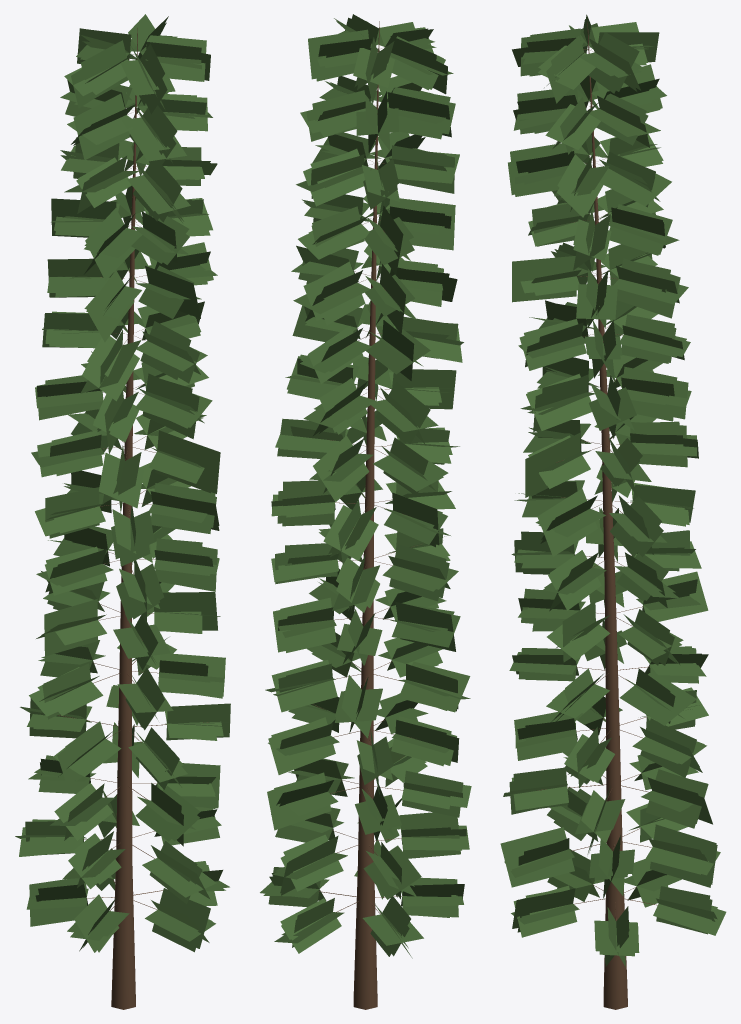
The model's file is seedthree-fir-2.gltf.
The picture shows the model from 3 angles, left to right: view 1: azimuth 30°, elevation 25°; view 2: azimuth 150°, elevation 25°; view 3: azimuth 270°, elevation 25°; orthographic projection.
Visible parts, largest first — view 1: seedthree-fir-2_leaves, seedthree-fir-2_branches; view 2: seedthree-fir-2_leaves, seedthree-fir-2_branches; view 3: seedthree-fir-2_leaves, seedthree-fir-2_branches.
Part boxes in pixels (box(x1,y1,x2,y2)): seedthree-fir-2_leaves: box(15, 14, 230, 952); seedthree-fir-2_branches: box(58, 28, 208, 1009); seedthree-fir-2_leaves: box(260, 14, 471, 958); seedthree-fir-2_branches: box(312, 21, 421, 1009); seedthree-fir-2_leaves: box(500, 14, 726, 967); seedthree-fir-2_branches: box(537, 21, 657, 1009).
Bounding box in the file's own units: 1.84 × 9 × 1.88.
